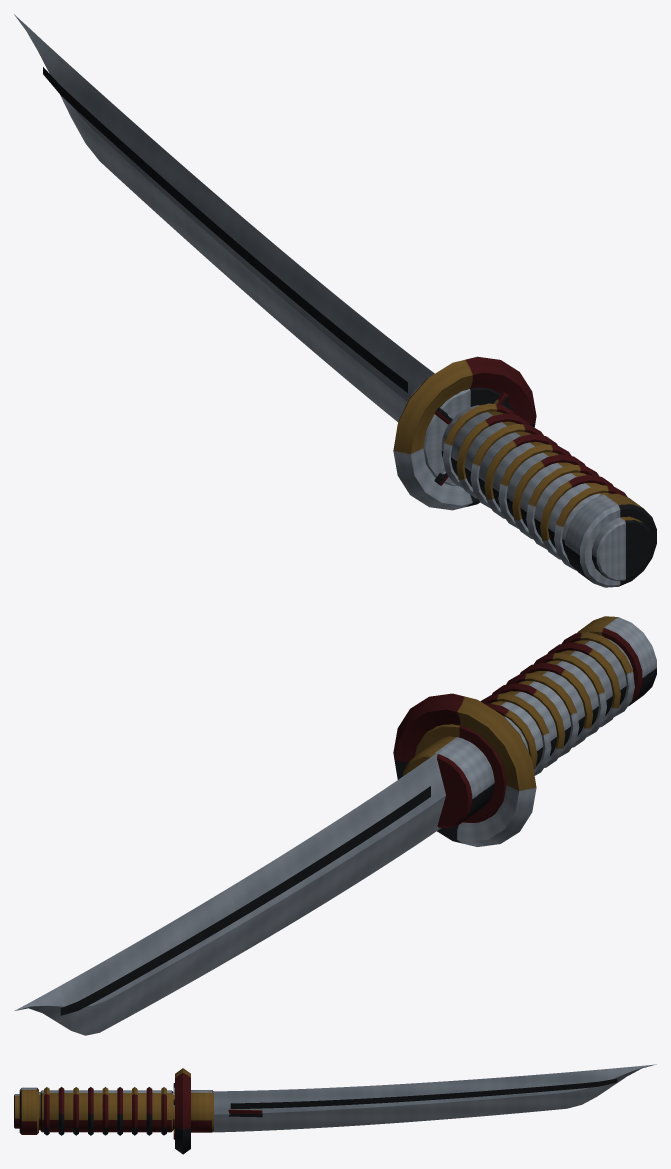
The model's file is BLIKK_TRAINING_KATANA_V3_1.glb.
The picture shows the model from 3 angles, top to bottom: view 1: azimuth 30°, elevation 25°; view 2: azimuth 150°, elevation 25°; view 3: azimuth 270°, elevation 25°; orthographic projection. The views are drawn at different scales.
Parts seen in each view (by area): view 1: TemperedBlade, TsubaOuter, HandleUnderwrap, Fuller_-1, Pommel, PommelCap, TsubaCore, HandleWrap3, HandleWrap1, HandleWrap2, HandleWrap4, HandleWrap5 (+4 smaller); view 2: TemperedBlade, TsubaOuter, HandleUnderwrap, Habaki, Fuller_-1, Pommel, TsubaCore, HandleWrap7, HandleWrap8, HandleWrap3, HandleWrap6, HandleWrap4 (+3 smaller); view 3: TemperedBlade, HandleUnderwrap, Fuller_1, TsubaOuter, Habaki, Pommel, HandleWrap1, HandleWrap7, HandleWrap4, HandleWrap3, HandleWrap5, HandleWrap0 (+5 smaller).
Boxes of the visible parts, <box> form: TemperedBlade: <box>14,14,434,421</box>; TsubaOuter: <box>393,356,536,510</box>; HandleUnderwrap: <box>441,404,611,553</box>; Fuller_-1: <box>43,67,407,392</box>; Pommel: <box>565,493,656,587</box>; PommelCap: <box>592,516,652,580</box>; TsubaCore: <box>423,387,513,486</box>; HandleWrap3: <box>484,434,557,518</box>; HandleWrap1: <box>456,413,529,498</box>; HandleWrap2: <box>470,424,543,508</box>; HandleWrap4: <box>498,444,571,529</box>; HandleWrap5: <box>512,454,585,539</box>; TemperedBlade: <box>14,750,445,1035</box>; TsubaOuter: <box>393,693,536,846</box>; HandleUnderwrap: <box>490,640,631,766</box>; Habaki: <box>403,736,494,828</box>; Fuller_-1: <box>60,786,430,1015</box>; Pommel: <box>577,616,656,706</box>; TsubaCore: <box>415,724,506,822</box>; HandleWrap7: <box>547,642,620,727</box>; HandleWrap8: <box>561,632,634,716</box>; HandleWrap3: <box>492,683,565,767</box>; HandleWrap6: <box>534,652,606,737</box>; HandleWrap4: <box>506,673,579,757</box>; TemperedBlade: <box>207,1064,656,1132</box>; HandleUnderwrap: <box>40,1090,172,1132</box>; Fuller_1: <box>230,1078,617,1108</box>; TsubaOuter: <box>175,1068,190,1154</box>; Habaki: <box>191,1090,213,1132</box>; Pommel: <box>19,1087,38,1134</box>; HandleWrap1: <box>146,1087,152,1135</box>; HandleWrap7: <box>58,1087,64,1135</box>; HandleWrap4: <box>102,1087,108,1135</box>; HandleWrap3: <box>117,1087,122,1135</box>; HandleWrap5: <box>88,1087,93,1135</box>; HandleWrap0: <box>161,1087,166,1135</box>.
Bounding box in the file's own units: 0.41 × 0.4459 × 3.03.
4 materials, 4 textured.
